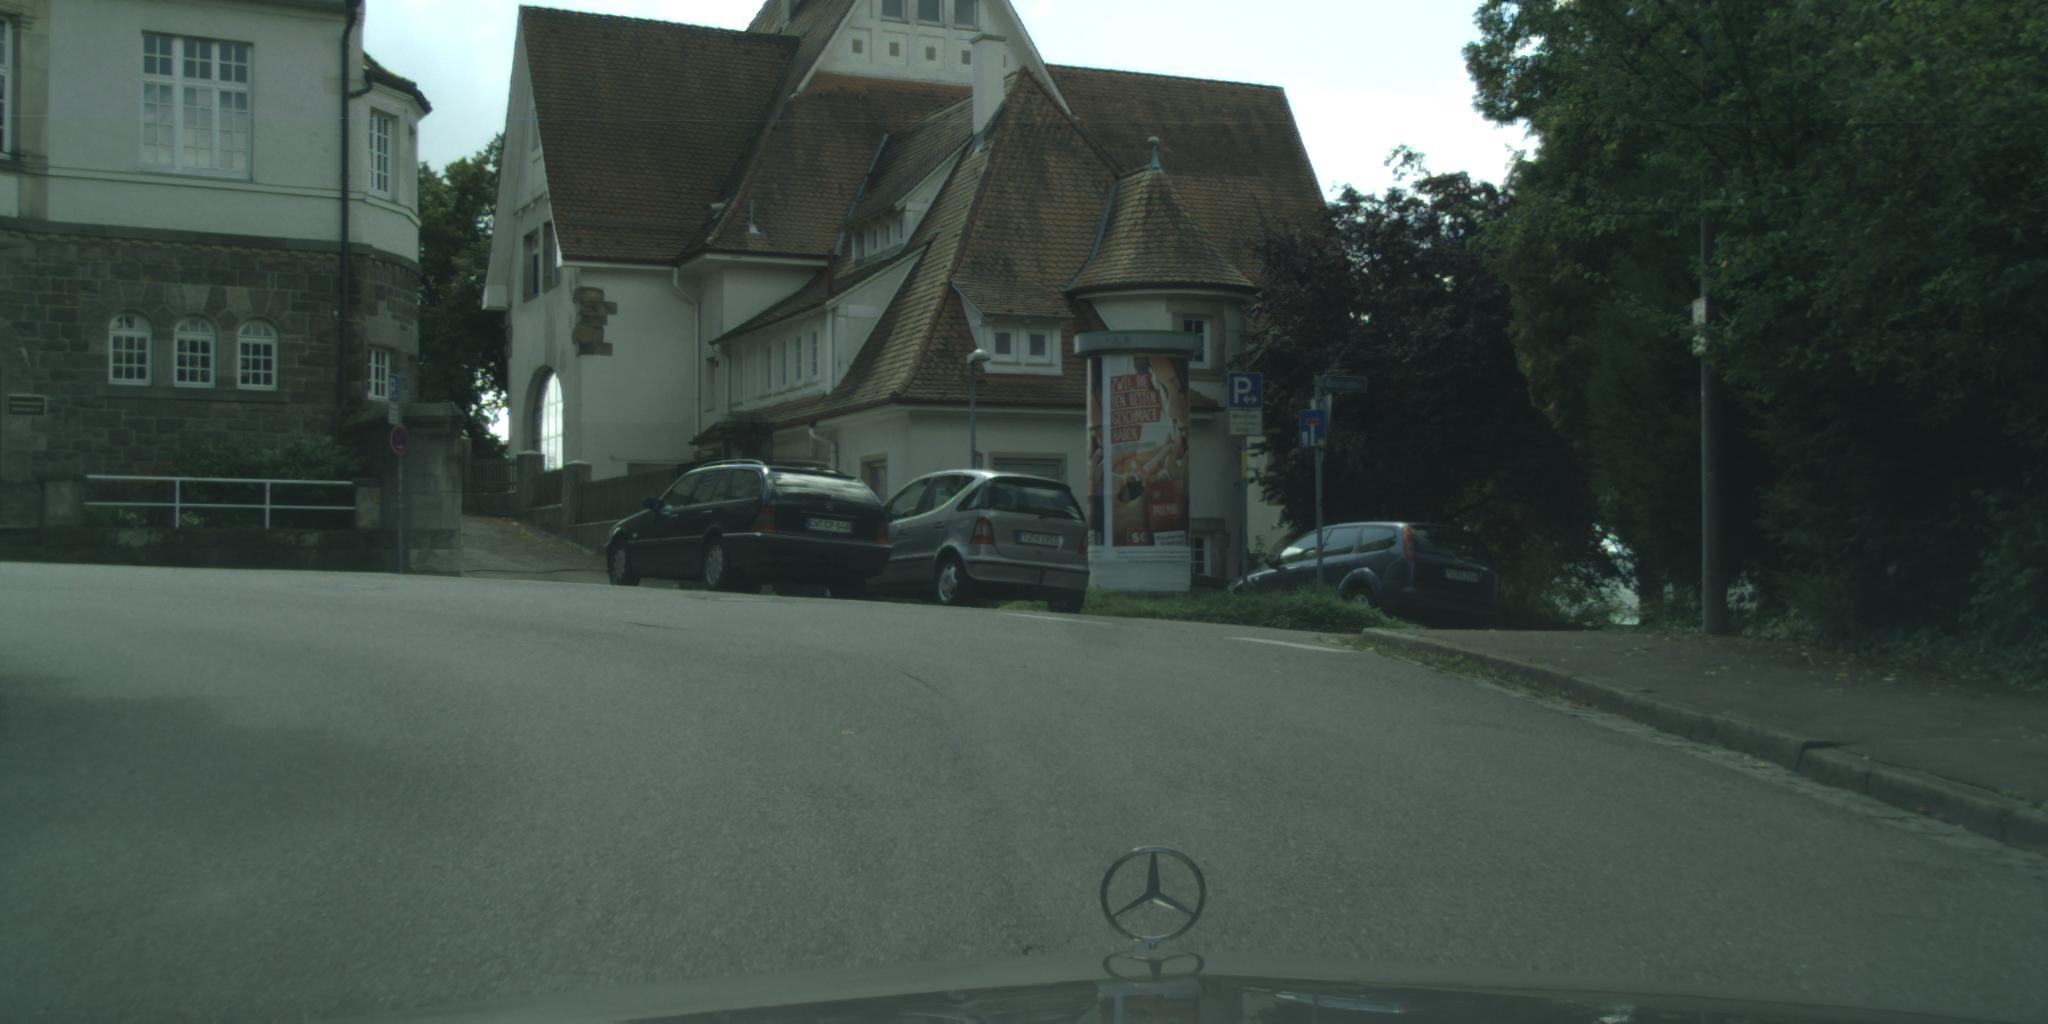car: (605, 458, 893, 602), (857, 470, 1091, 614), (1225, 522, 1499, 637)
